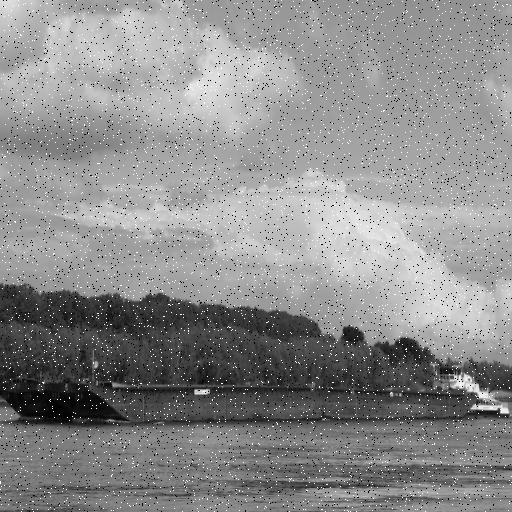tugboat: (427, 362, 512, 425)
